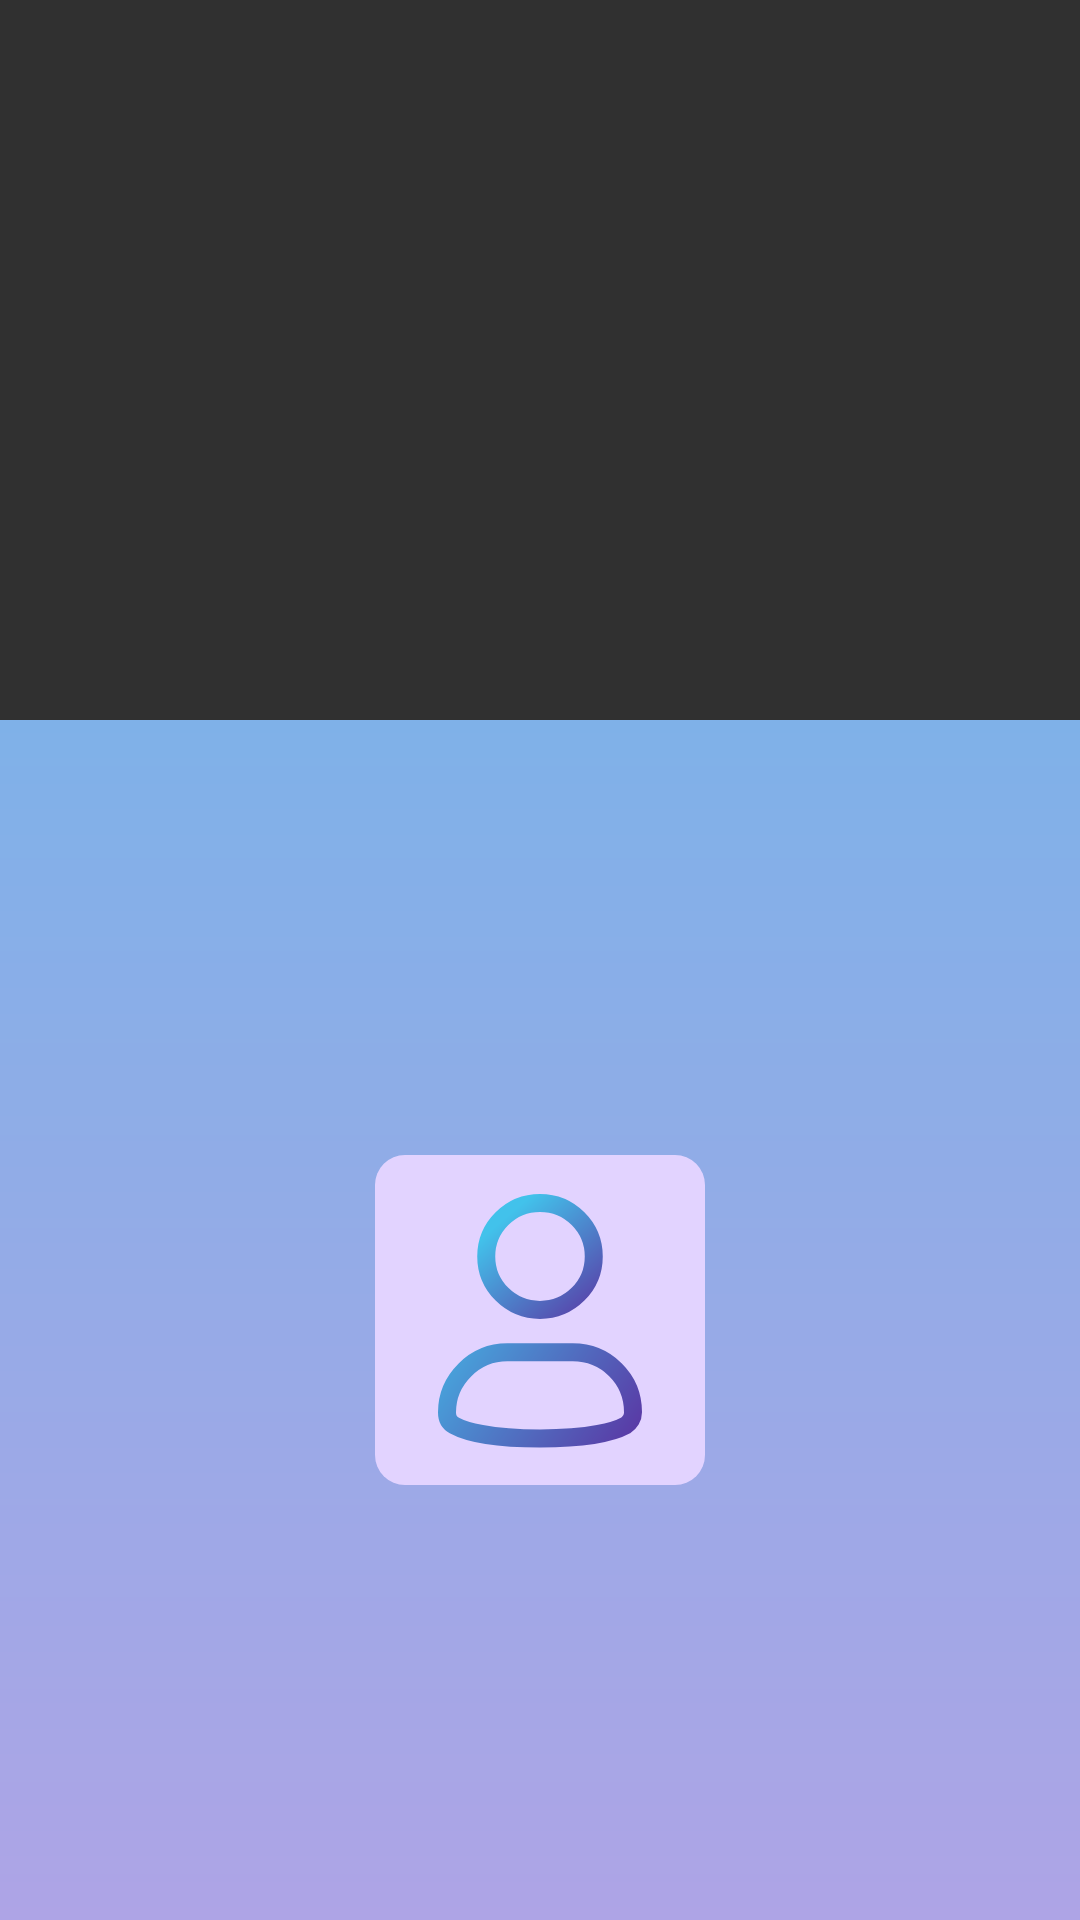

Icons on this 1080w x 1920h Android screen, each with the point to tap as [x,y]:
Кнопка профиля: [540,1320]
